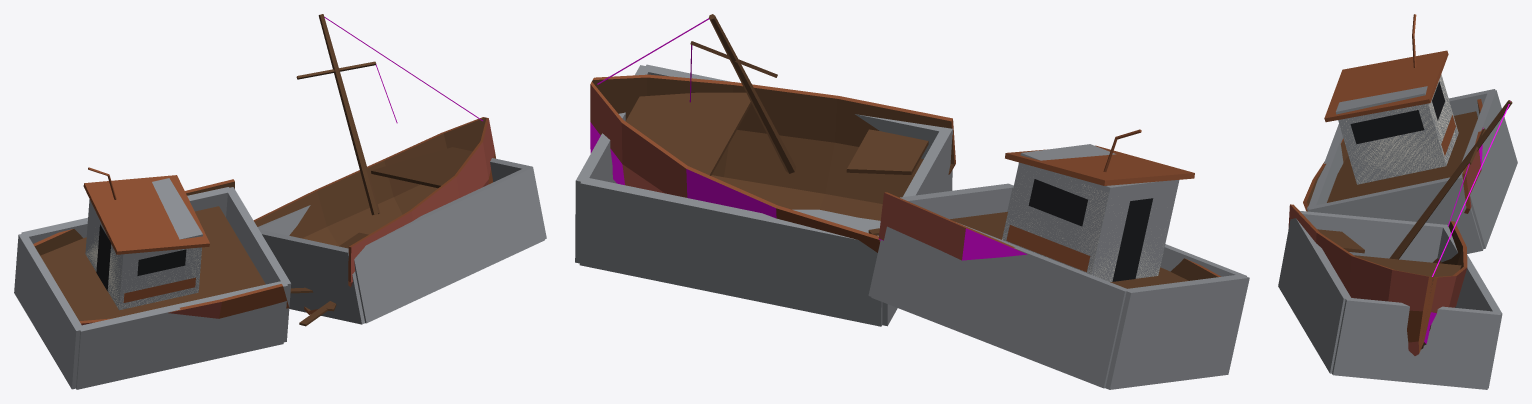
Rendered from wreck_boat.glb.
3 views of the same model, side by side, from view 1: azimuth 30°, elevation 25°; view 2: azimuth 150°, elevation 25°; view 3: azimuth 270°, elevation 25° (orthographic). The views are drawn at different scales.
Visible parts, largest first — view 1: wreck_boat__col, wreck_boat__mesh; view 2: wreck_boat__col, wreck_boat__mesh; view 3: wreck_boat__col, wreck_boat__mesh.
Boxes of the visible parts, x1,y1,x2,y2 form: wreck_boat__col: [14, 158, 546, 389]; wreck_boat__mesh: [33, 14, 495, 326]; wreck_boat__col: [575, 64, 1249, 389]; wreck_boat__mesh: [590, 14, 1220, 288]; wreck_boat__col: [1278, 75, 1517, 389]; wreck_boat__mesh: [1288, 14, 1512, 355].
Bounding box in the file's own units: 12.52 × 6.32 × 5.38.
Materials: 1 (1 with a texture image).
